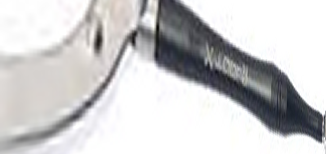wrench: (5, 3, 322, 154)
